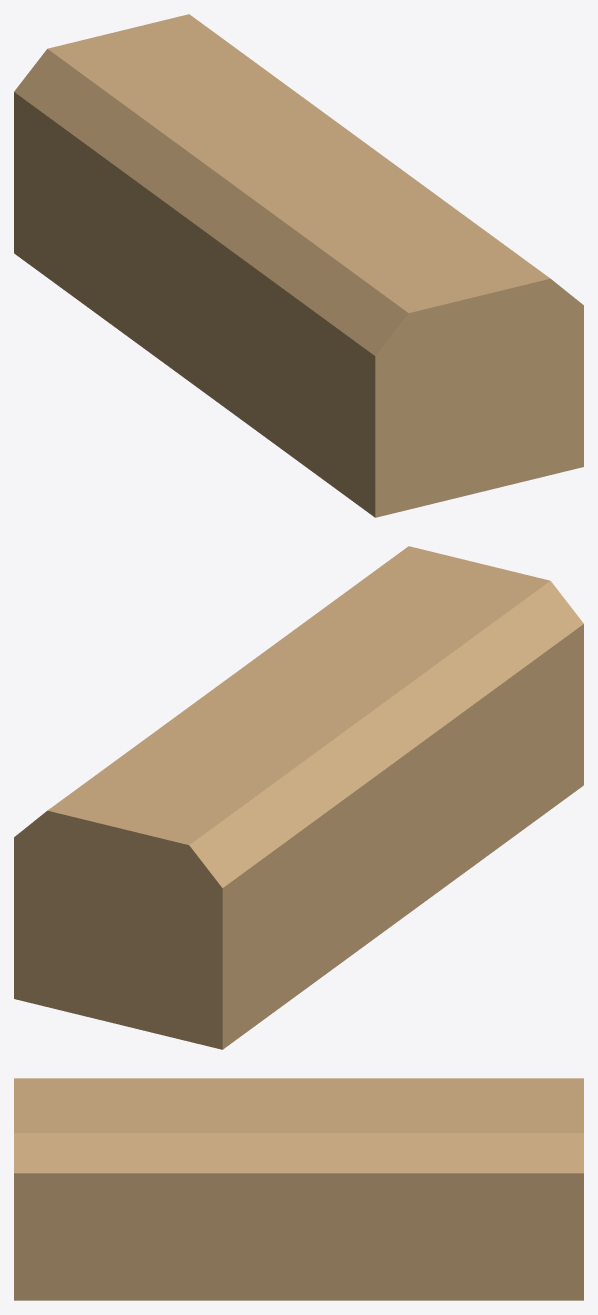
The model's file is prop-block-plane-body-bp1.fbx.
3 renders of one model, top to bottom at view 1: azimuth 30°, elevation 25°; view 2: azimuth 150°, elevation 25°; view 3: azimuth 270°, elevation 25°, orthographic. The views are drawn at different scales.
Visible parts, largest first — view 1: prop-block-plane-body-bp1; view 2: prop-block-plane-body-bp1; view 3: prop-block-plane-body-bp1.
Part boxes in pixels (box(x1,y1,x2,y2)): prop-block-plane-body-bp1: box(14, 14, 583, 517); prop-block-plane-body-bp1: box(14, 546, 583, 1049); prop-block-plane-body-bp1: box(14, 1078, 583, 1300).
Size of the model in its own units: 5 by 4.5 by 15.
